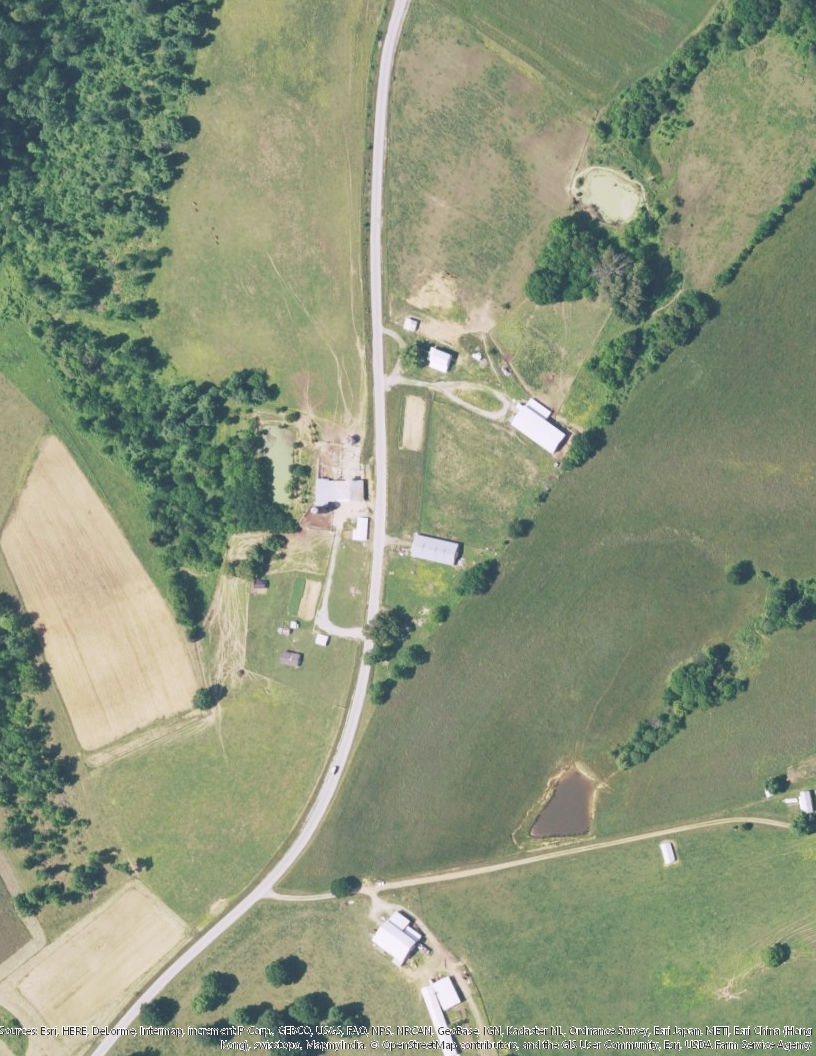cafo: (506, 395, 573, 459), (406, 530, 464, 569), (311, 478, 370, 508)
